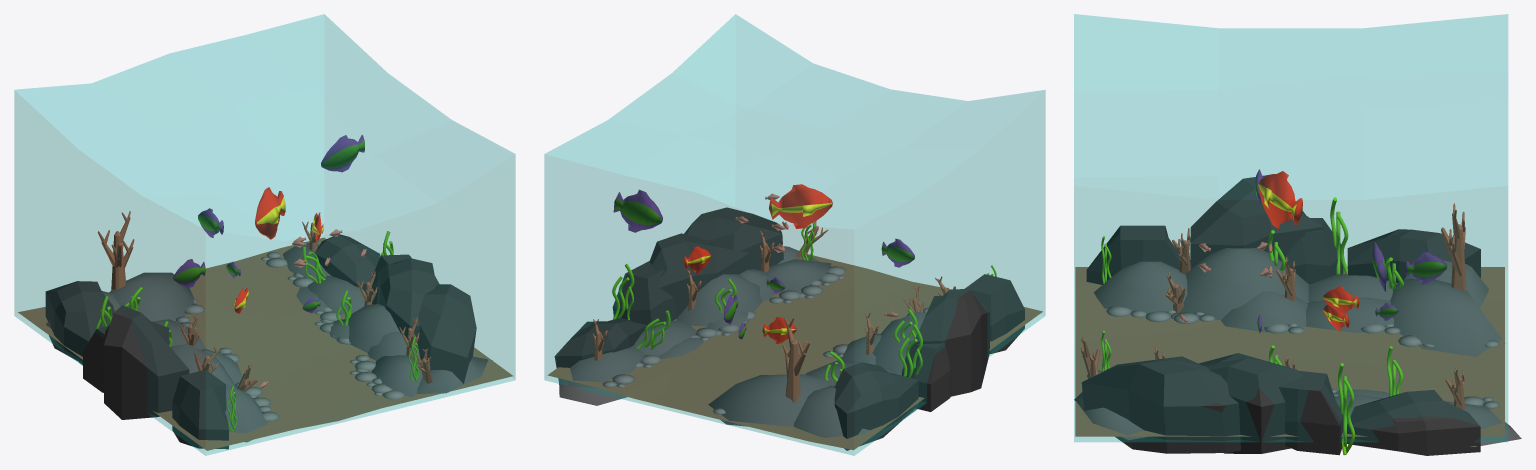
Rendered from Underwater Scene.obj.
3 views of the same model, side by side, from view 1: azimuth 30°, elevation 25°; view 2: azimuth 150°, elevation 25°; view 3: azimuth 270°, elevation 25° (orthographic). The views are drawn at different scales.
Parts seen in each view (by area): view 1: box2, rectangle1, box111, box11111, box11, box12, box1111, sphere122, box112, sphere113, sphere11111, sphere14 (+11 smaller); view 2: box2, rectangle1, box111, box11, sphere122, box1111, box11111, sphere121, box12, box13, box112, sphere113 (+16 smaller); view 3: box2, rectangle1, box11111, box112, sphere122, box1111, box111, sphere11, box13, box11, sphere111, box12 (+17 smaller).
Boxes of the visible parts, x1,y1,x2,y2 form: box2: (14, 14, 515, 455); rectangle1: (18, 237, 513, 450); box111: (104, 305, 189, 419); box11111: (418, 284, 476, 383); box11: (45, 281, 114, 363); box12: (172, 370, 228, 449); box1111: (376, 258, 439, 343); sphere122: (109, 272, 196, 321); box112: (314, 234, 379, 291); sphere113: (343, 304, 399, 352); sphere11111: (371, 355, 422, 397); sphere14: (307, 275, 365, 314); box2: (544, 14, 1045, 455); rectangle1: (547, 254, 1042, 450); box111: (914, 288, 989, 396); box11: (834, 362, 918, 450); sphere122: (708, 374, 836, 426); box1111: (649, 233, 751, 317); box11111: (684, 207, 783, 270); sphere121: (559, 345, 645, 405); box12: (965, 274, 1024, 353); box13: (612, 261, 676, 325); box112: (554, 318, 646, 380); sphere113: (676, 274, 762, 326); box2: (1074, 14, 1507, 441); rectangle1: (1075, 267, 1504, 436); box11111: (1081, 356, 1240, 453); box112: (1347, 390, 1480, 455); sphere122: (1390, 278, 1501, 356); box1111: (1199, 353, 1302, 453); box111: (1190, 175, 1323, 269); sphere11: (1179, 248, 1309, 320); box13: (1278, 370, 1343, 455); box11: (1347, 229, 1480, 283); sphere111: (1094, 261, 1187, 313); box12: (1086, 225, 1180, 284).
Bounding box in the file's own units: 19.66 × 13.97 × 20.29.
